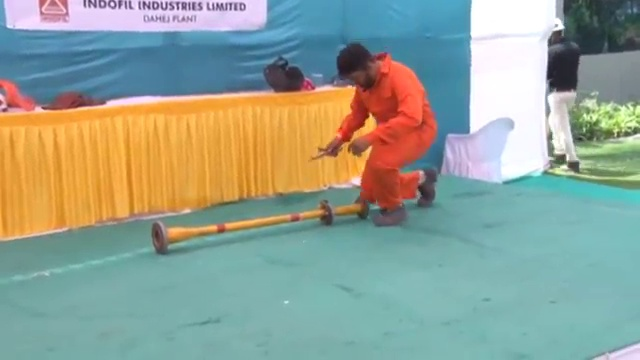helmet: (545, 15, 566, 34)
helmet_off: (335, 43, 377, 89)
helmet_on: (542, 14, 568, 44)
person: (331, 43, 435, 224), (543, 12, 586, 170)
